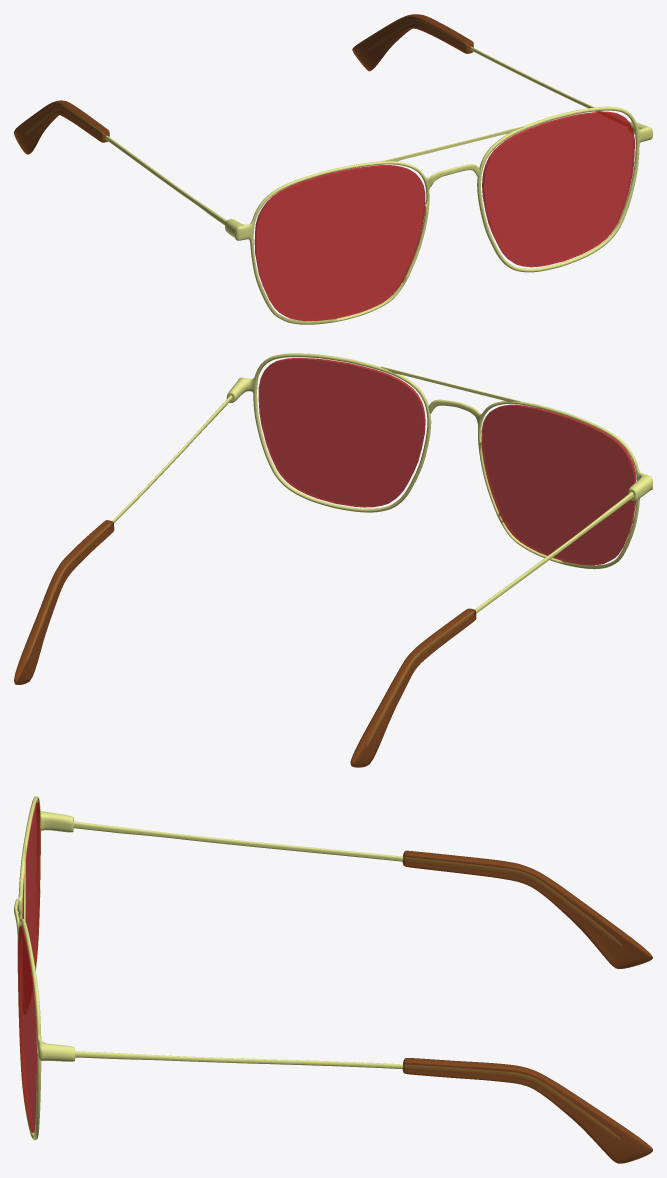
The model's file is sunnies_studios_sunglasses.glb.
3 views of the same model, one above another, from view 1: azimuth 30°, elevation 25°; view 2: azimuth 150°, elevation 25°; view 3: azimuth 270°, elevation 25° (orthographic). The views are drawn at different scales.
Visible parts, largest first — view 1: zdaja 2_0, zdaja.001_1, Plane.001_6, karkas.003_4, karkas.002_3, Plane_5; view 2: zdaja.001_1, zdaja 2_0, Plane.001_6, karkas.003_4, karkas.002_3; view 3: Plane.001_6, karkas.002_3, karkas.003_4, zdaja.001_1, zdaja 2_0.
Boxes of the visible parts, left/top/right/bottom form: zdaja 2_0: left=254, top=165, right=425, bottom=321; zdaja.001_1: left=482, top=111, right=634, bottom=267; Plane.001_6: left=14, top=14, right=473, bottom=154; karkas.003_4: left=25, top=106, right=480, bottom=324; karkas.002_3: left=369, top=20, right=652, bottom=272; Plane_5: left=382, top=126, right=523, bottom=161; zdaja.001_1: left=258, top=358, right=425, bottom=507; zdaja 2_0: left=481, top=404, right=636, bottom=565; Plane.001_6: left=14, top=520, right=476, bottom=767; karkas.003_4: left=366, top=399, right=652, bottom=747; karkas.002_3: left=27, top=353, right=431, bottom=660; Plane.001_6: left=402, top=850, right=652, bottom=1163; karkas.002_3: left=17, top=918, right=620, bottom=1140; karkas.003_4: left=14, top=796, right=622, bottom=970; zdaja.001_1: left=18, top=926, right=36, bottom=1132; zdaja 2_0: left=22, top=802, right=40, bottom=968.
Size of the model in its own units: 35.39 by 12.73 by 40.22.
